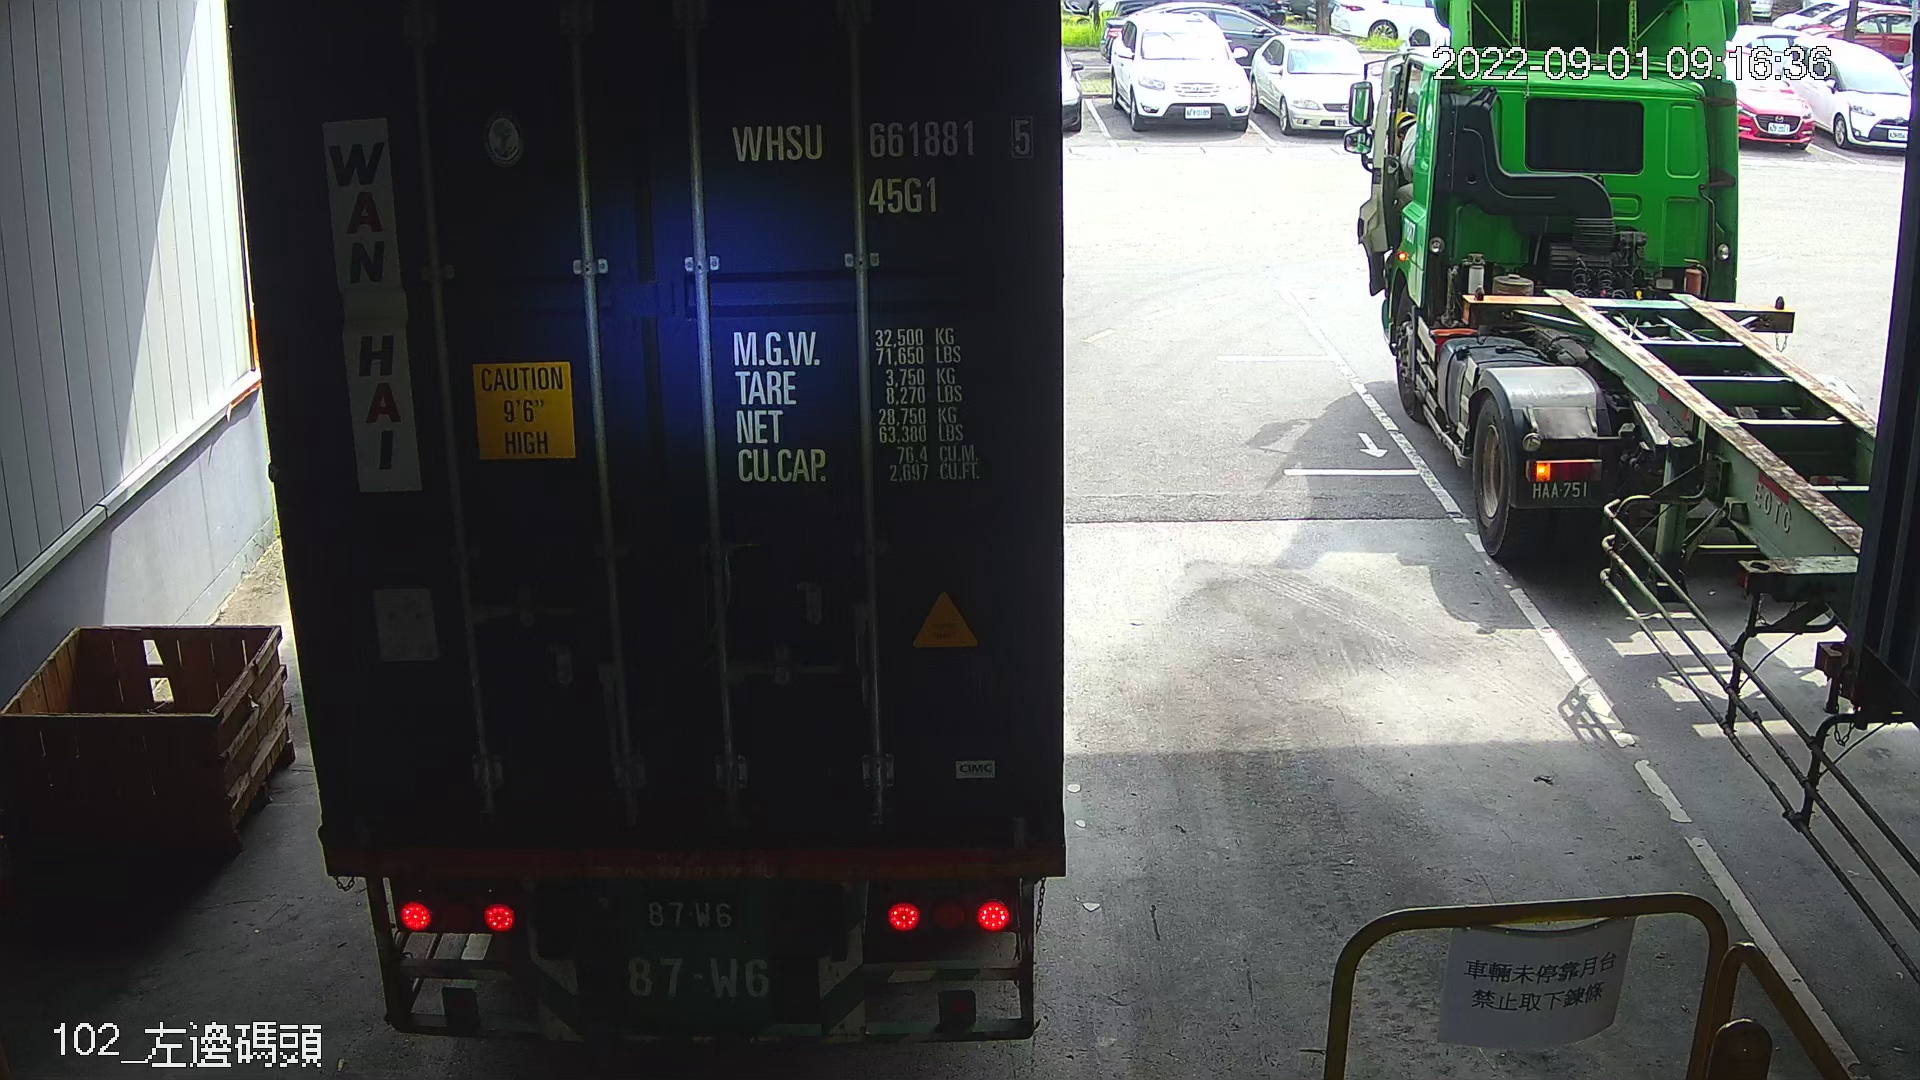container: (716, 108, 1038, 224)
